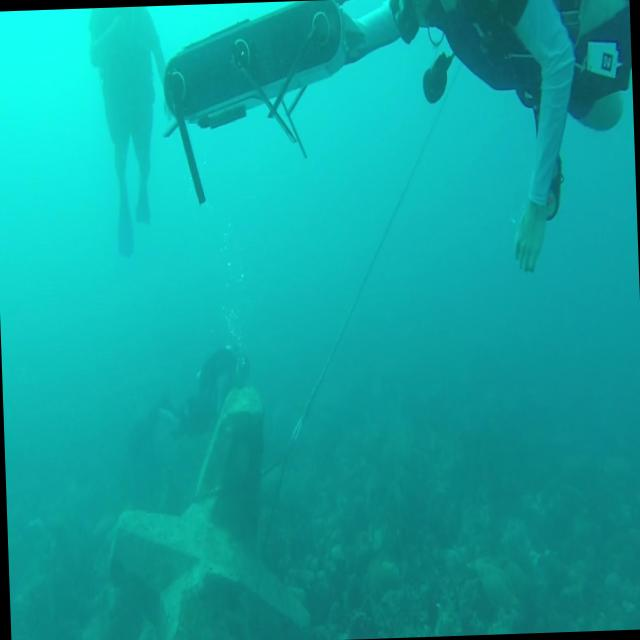human: (365, 0, 638, 278), (86, 5, 173, 257), (126, 334, 266, 460)
